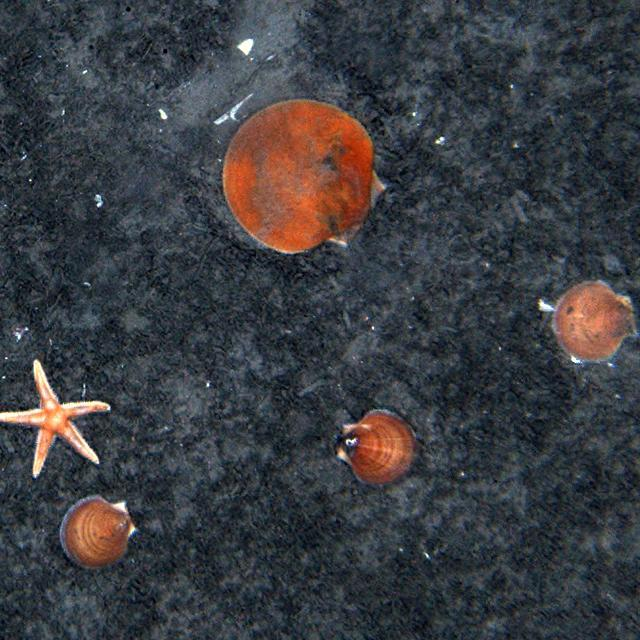scallop: (218, 97, 394, 257), (549, 273, 636, 363), (328, 406, 421, 489), (55, 496, 144, 572)
